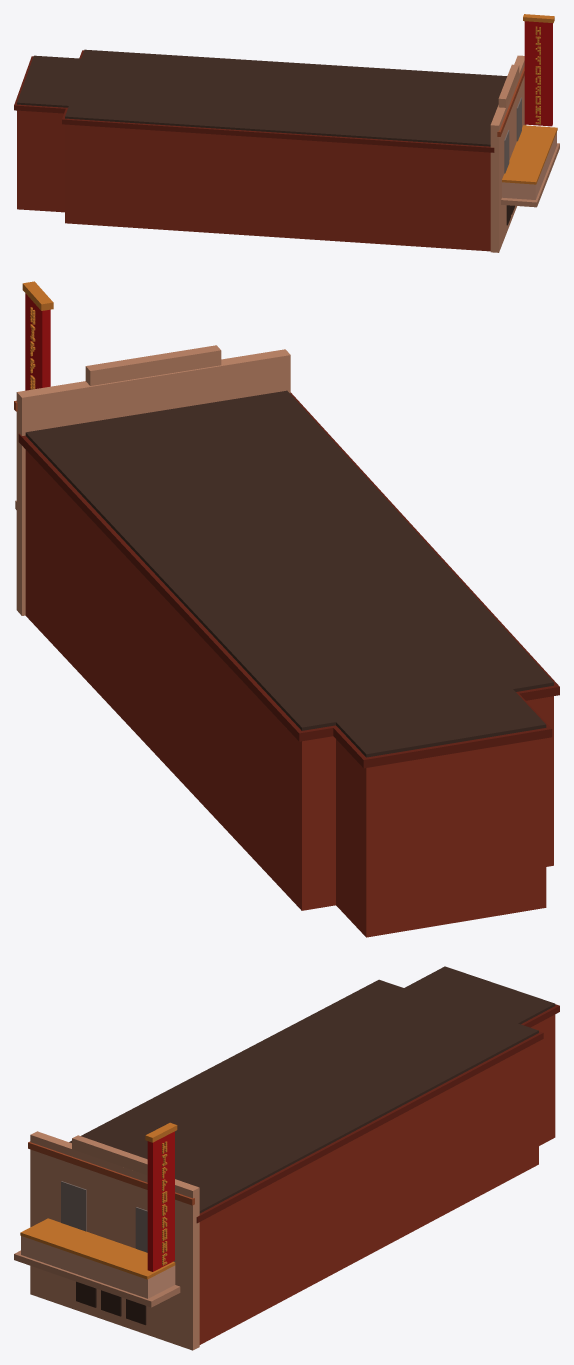
Rendered from hippodrome-theater.glb.
3 views of the same model, one above another, from view 1: azimuth 30°, elevation 25°; view 2: azimuth 150°, elevation 25°; view 3: azimuth 270°, elevation 25° (orthographic). The views are drawn at different scales.
Parts seen in each view (by area): view 1: auditorium; view 2: auditorium; view 3: auditorium.
Boxes of the visible parts, x1,y1,x2,y2 form: auditorium: (14, 14, 559, 252); auditorium: (14, 281, 559, 937); auditorium: (14, 966, 559, 1350).
Bounding box in the file's own units: 46.3 × 18.1 × 40.63.
